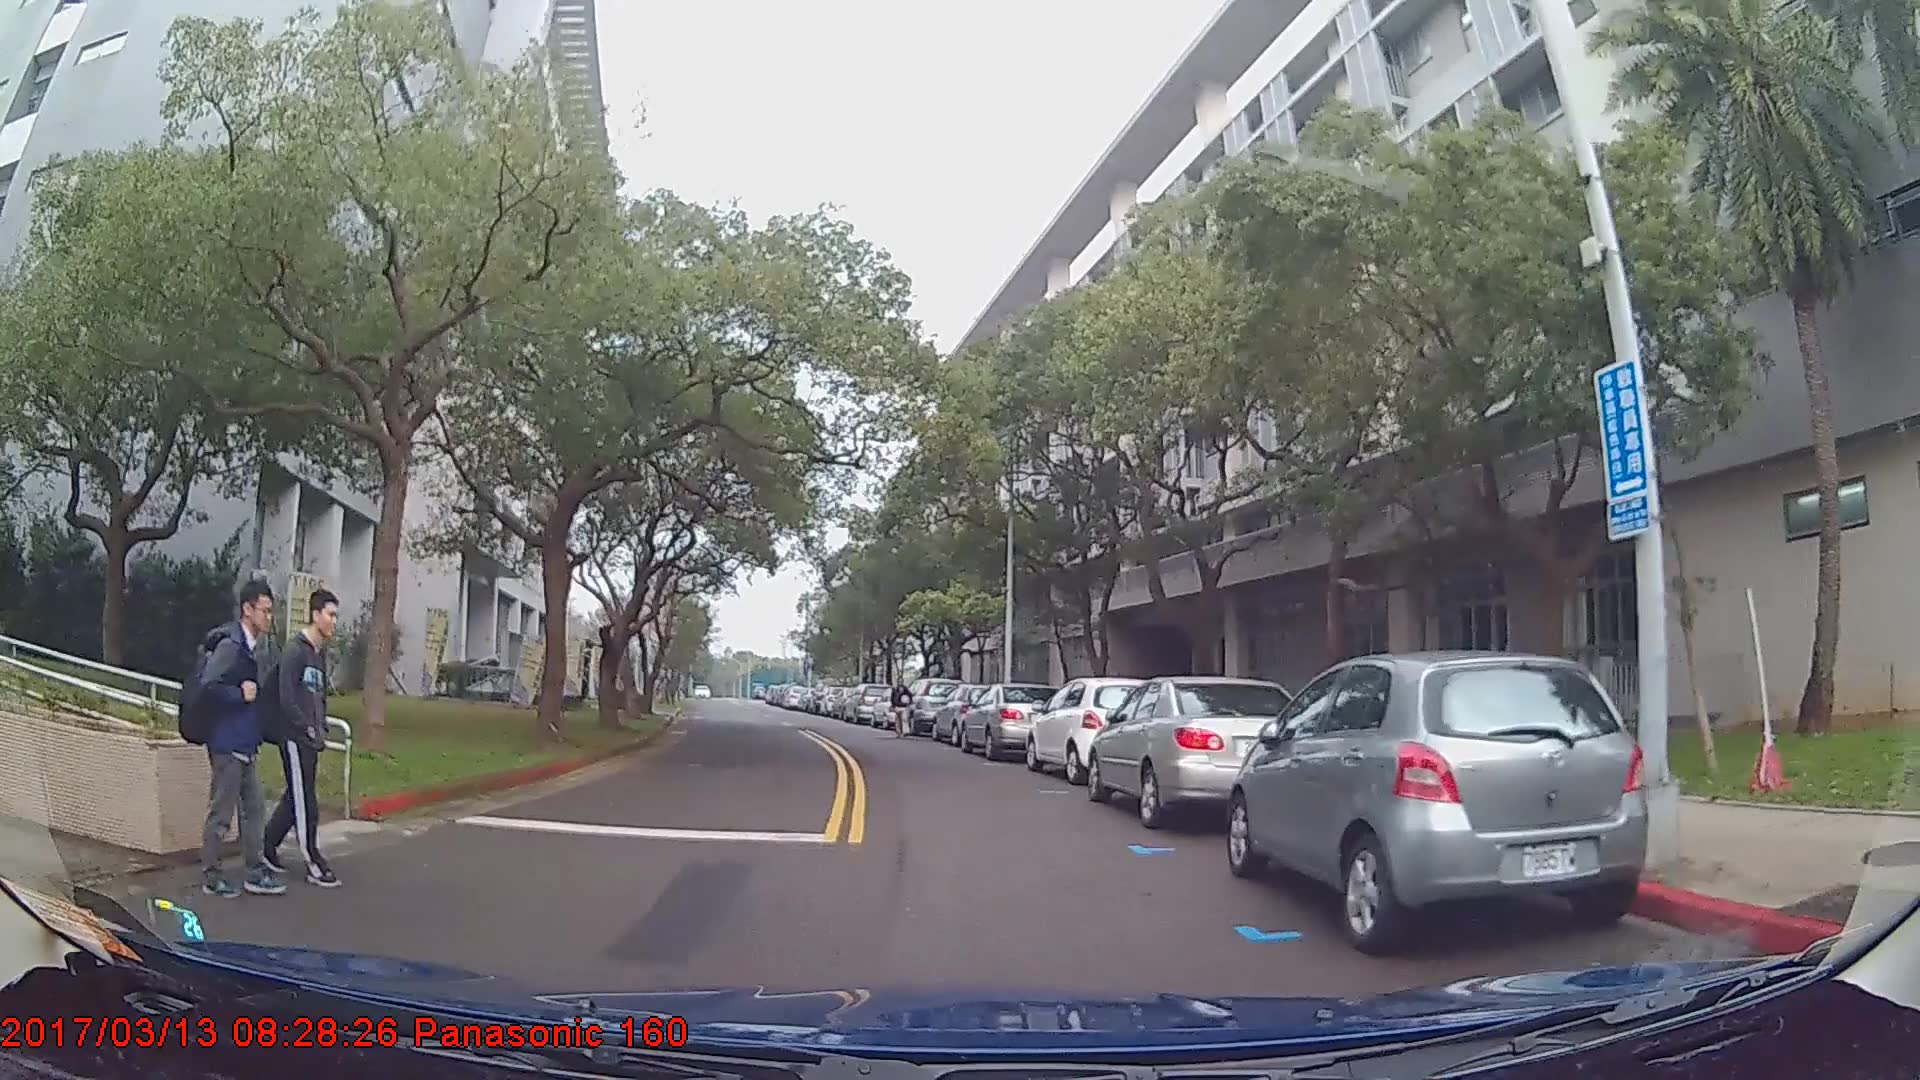pedestrian: (176, 579, 292, 898), (244, 586, 338, 896), (889, 676, 915, 742)
vehicle: (1224, 650, 1649, 952), (1087, 676, 1321, 828), (1025, 674, 1165, 785), (959, 682, 1060, 761), (929, 683, 1016, 748), (901, 675, 965, 737), (841, 680, 894, 724)
